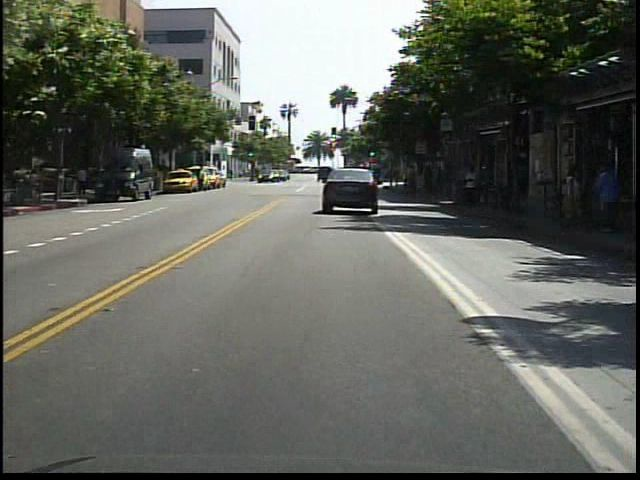person: (461, 164, 485, 214)
